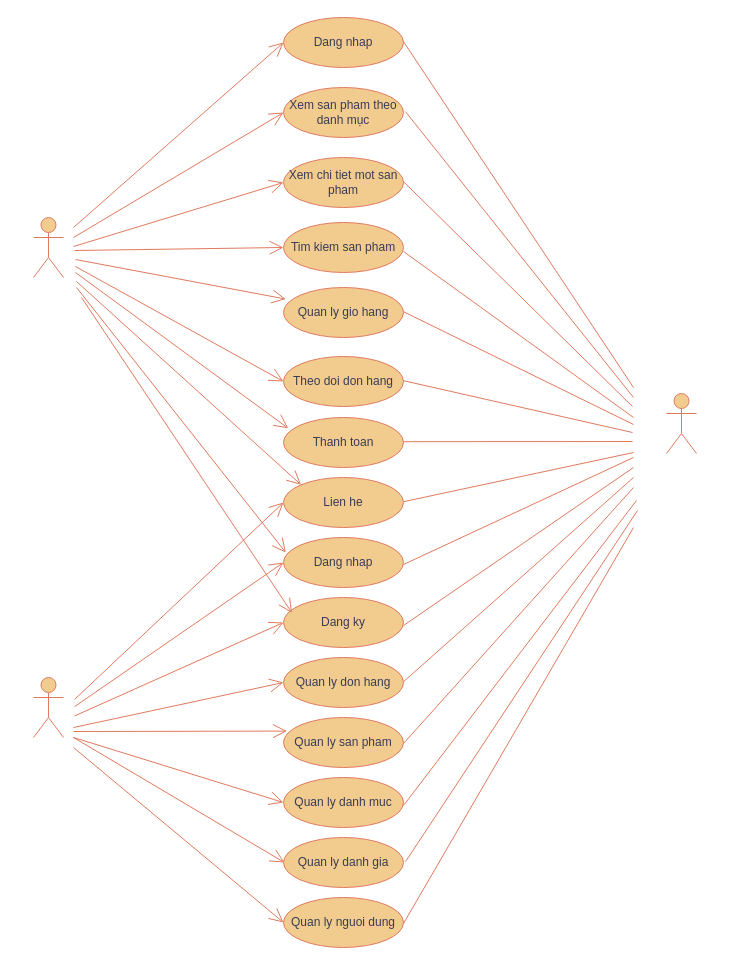
The diagram is 739 pixels wide and 965 high, and some of its shapes have lost their labels. The shapes that lost their labels are listed below. From the top down, each one's box as (x1, y1, x2, y2) in pixels, then its label:
(32, 216, 64, 278): KhachHang
(666, 392, 696, 454): HeThongCSDL
(32, 676, 64, 738): QuanTri
